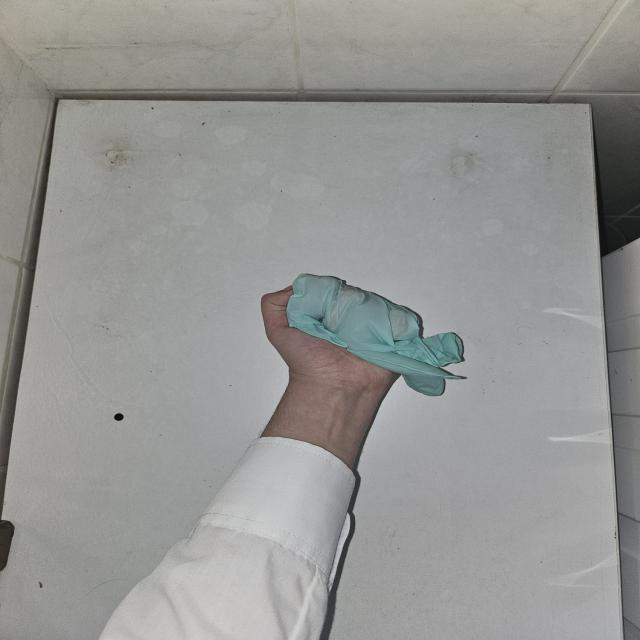glove_partial: (260, 271, 468, 399)
